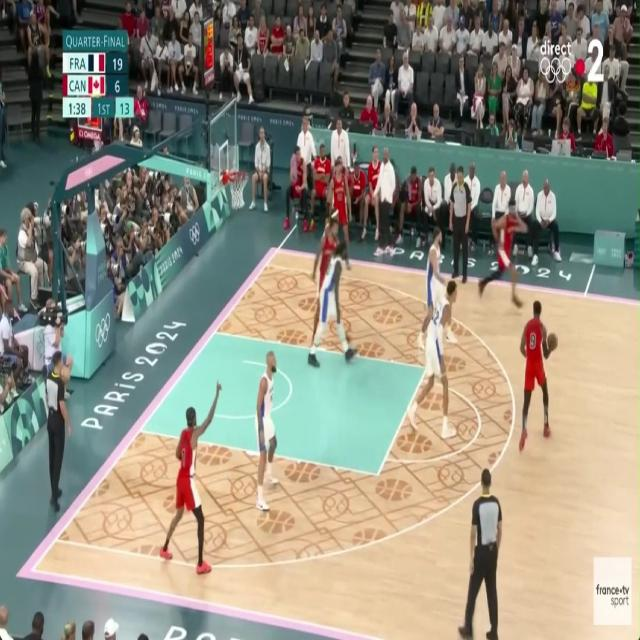ball_handler: (520, 300, 558, 450)
